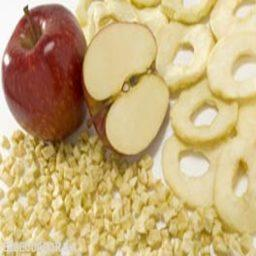apple: (1, 3, 88, 149)
